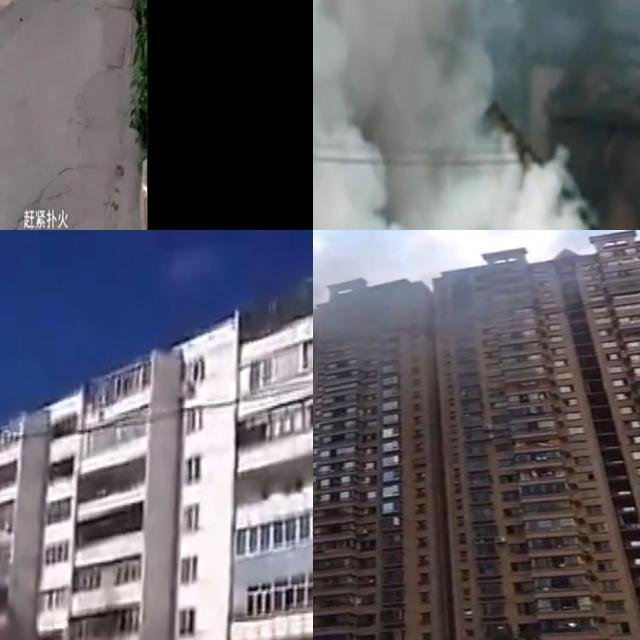smoke: (313, 0, 582, 230), (313, 230, 593, 346)
